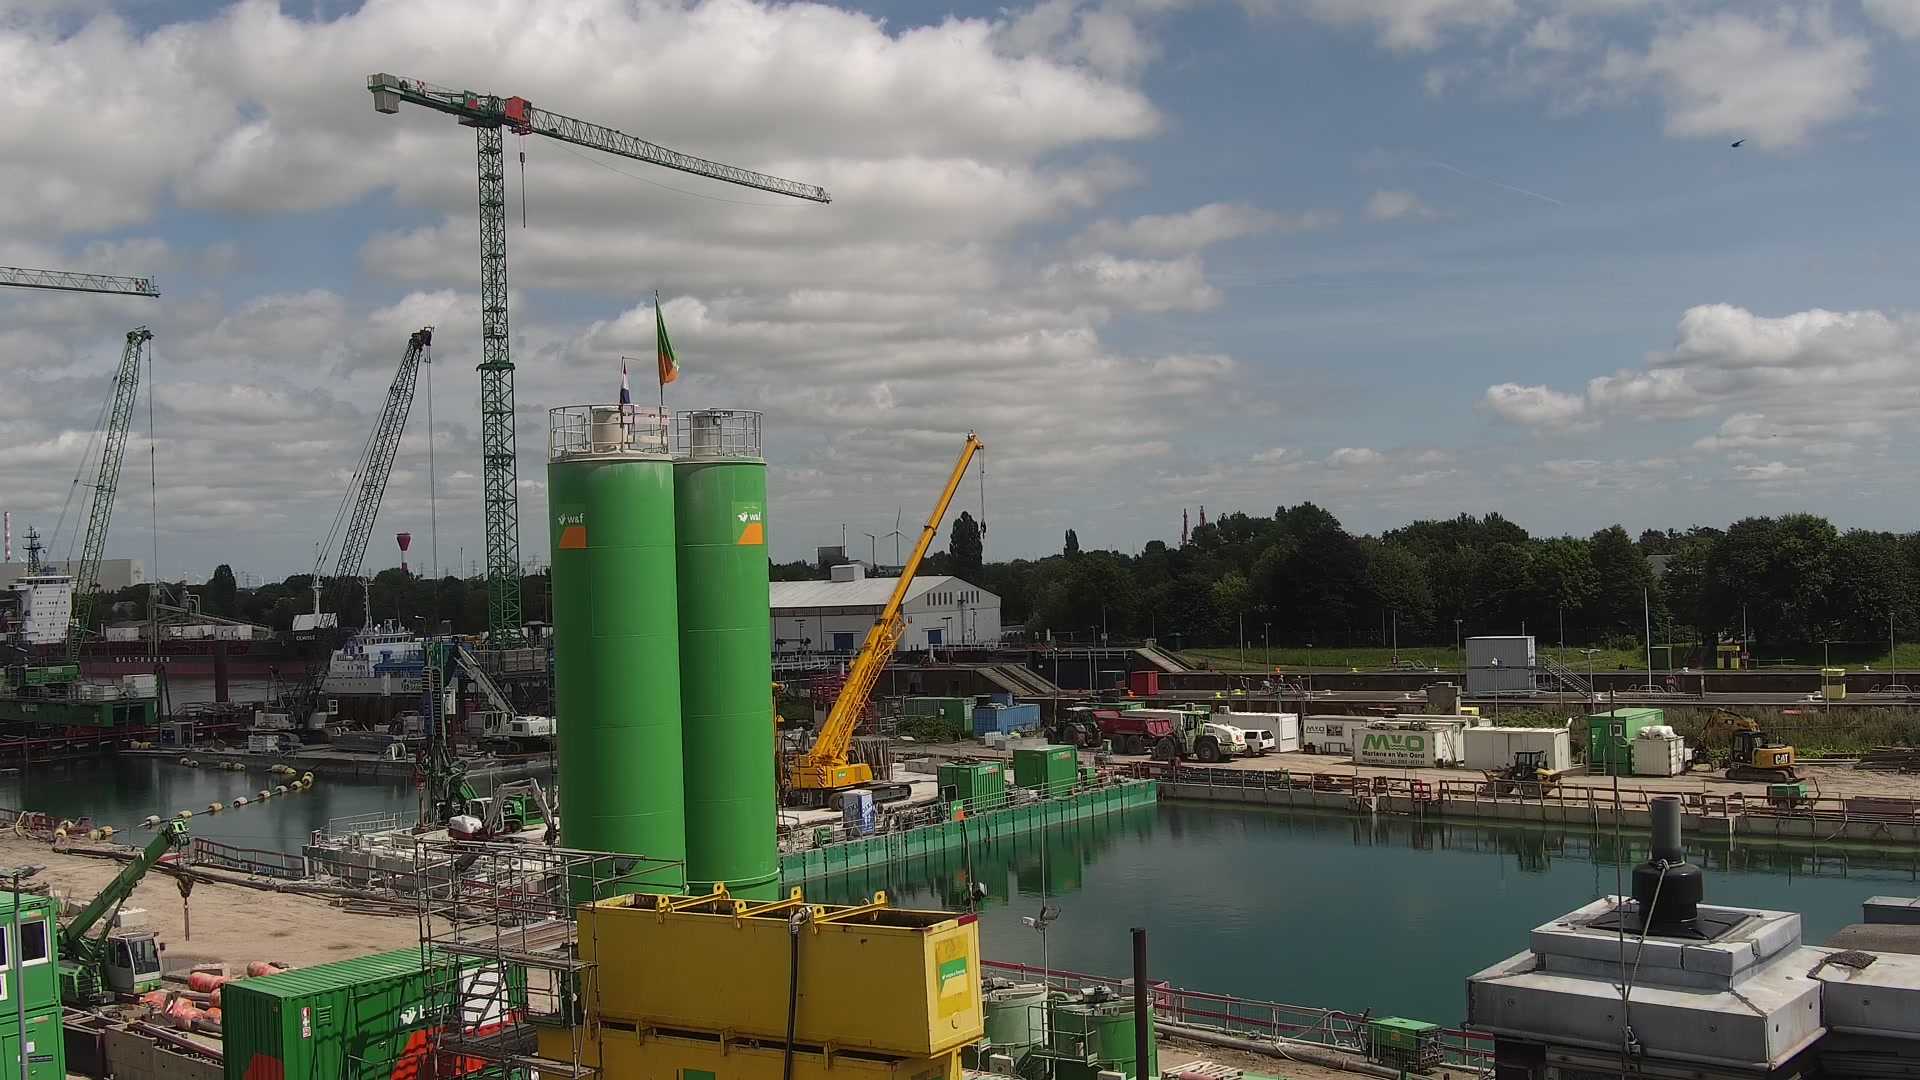land: (55, 818, 193, 1009), (443, 644, 556, 754), (1691, 705, 1795, 783), (446, 775, 556, 847), (1043, 705, 1174, 754), (1153, 709, 1246, 760), (1482, 749, 1561, 796), (1242, 727, 1275, 756)
sea: (1, 526, 360, 678), (316, 578, 520, 695)
